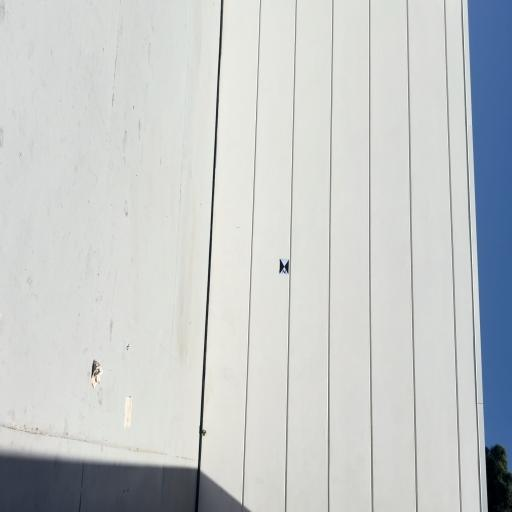target7: (280, 258, 289, 275)
